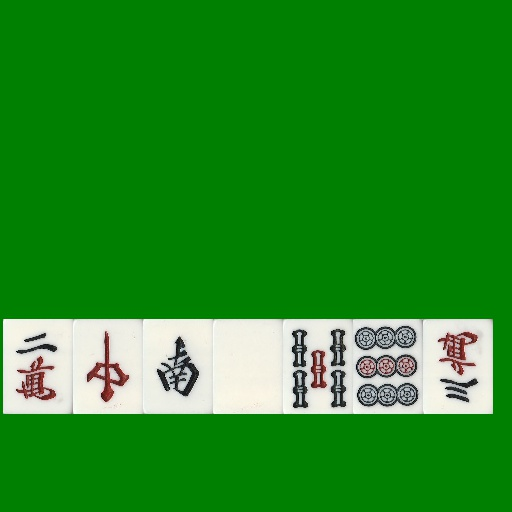2m: (3, 319, 73, 414)
3m: (423, 319, 493, 414)
5s: (283, 319, 353, 414)
9p: (353, 319, 423, 414)
south: (143, 319, 213, 414)
tyun: (73, 319, 143, 414)
white: (213, 319, 283, 414)
